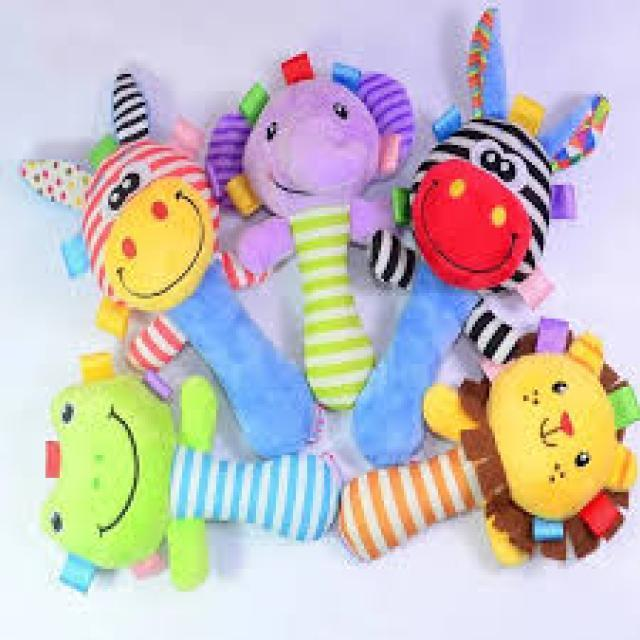soft-toy: (355, 10, 611, 467), (22, 74, 315, 458), (207, 54, 415, 411), (340, 321, 640, 567), (44, 377, 340, 590)
